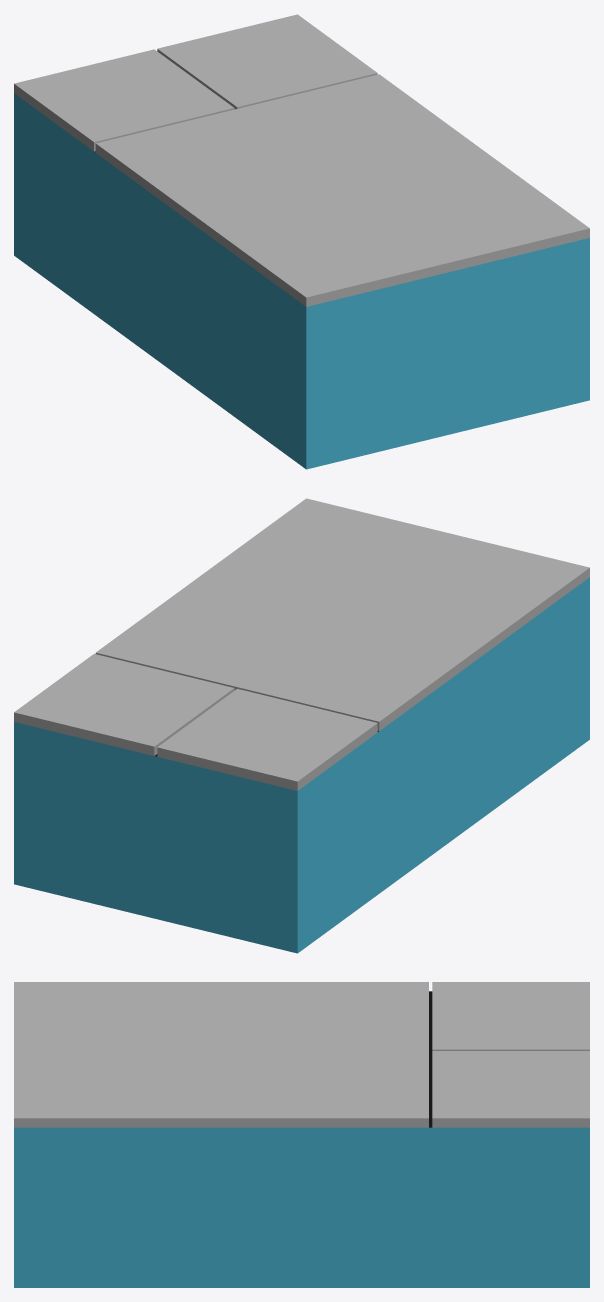
The model's file is Itr_Obj_Mouse_04.FBX.
The picture shows the model from 3 angles, top to bottom: view 1: azimuth 30°, elevation 25°; view 2: azimuth 150°, elevation 25°; view 3: azimuth 270°, elevation 25°; orthographic projection.
Visible parts, largest first — view 1: Itr_Obj_Mouse_04; view 2: Itr_Obj_Mouse_04; view 3: Itr_Obj_Mouse_04.
Boxes of the visible parts, x1,y1,x2,y2 form: Itr_Obj_Mouse_04: (14,14,589,469); Itr_Obj_Mouse_04: (14,498,589,953); Itr_Obj_Mouse_04: (14,982,589,1287).
Bounding box in the file's own units: 2.75 × 1.6 × 4.92.
